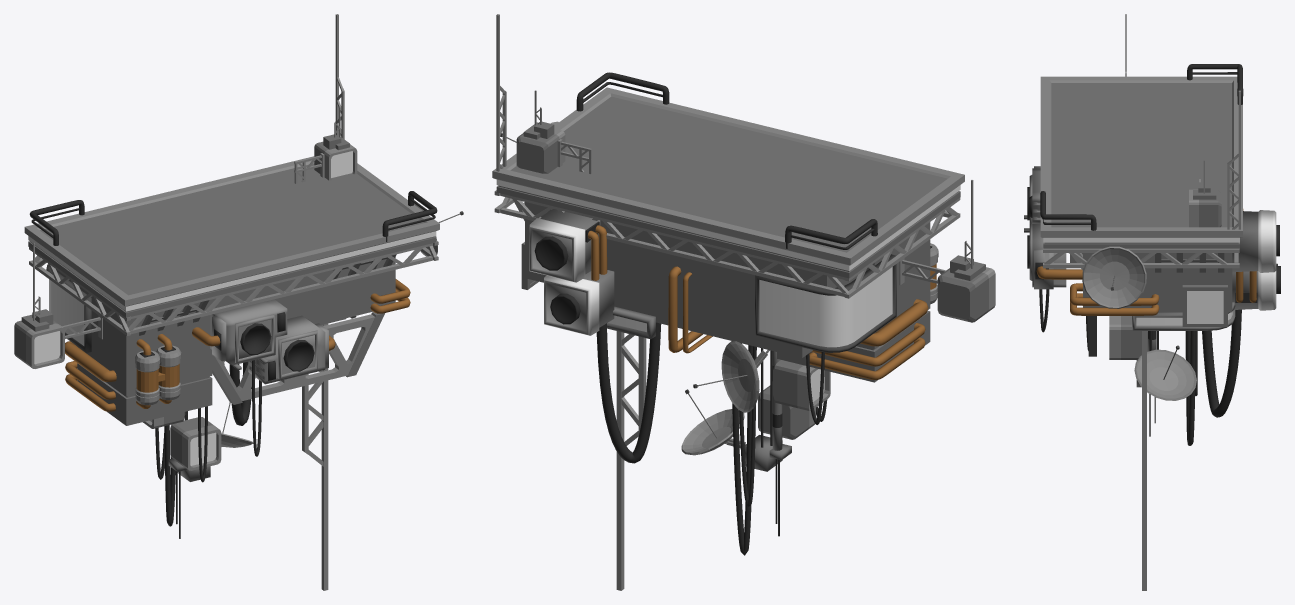
Rendered from Platform_4x2.glb.
3 renders of one model, left to right at view 1: azimuth 30°, elevation 25°; view 2: azimuth 150°, elevation 25°; view 3: azimuth 270°, elevation 25°, orthographic. The views are drawn at different scales.
Visible parts, largest first — view 1: Platform_4x2; view 2: Platform_4x2; view 3: Platform_4x2.
Boxes of the visible parts, left/top/right/bottom form: Platform_4x2: left=14, top=14, right=463, bottom=590; Platform_4x2: left=492, top=14, right=995, bottom=590; Platform_4x2: left=1024, top=14, right=1280, bottom=590.
Size of the model in its own units: 5.32 by 6.16 by 2.71.
